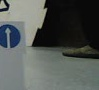forward: (1, 24, 21, 50)
